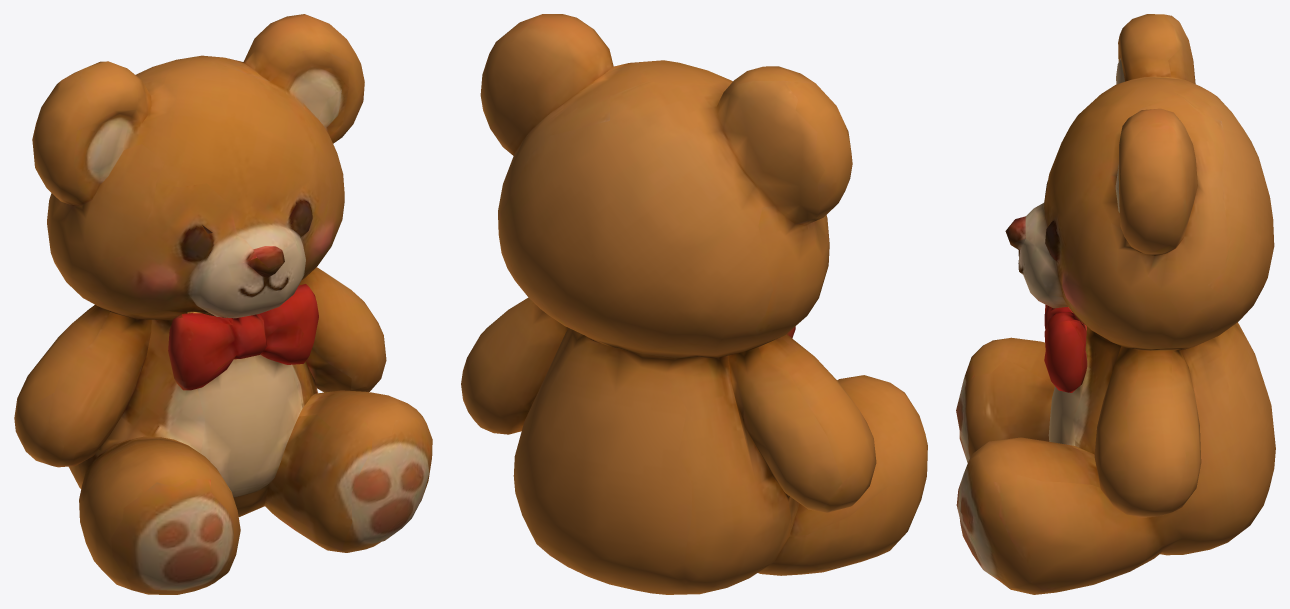
The model's file is big_bear.glb.
3 views of the same model, side by side, from view 1: azimuth 30°, elevation 25°; view 2: azimuth 150°, elevation 25°; view 3: azimuth 270°, elevation 25° (orthographic). The views are drawn at different scales.
Visible parts, largest first — view 1: textured_mesh.obj; view 2: textured_mesh.obj; view 3: textured_mesh.obj.
Part boxes in pixels (<box>): textured_mesh.obj: <box>14,14,432,594</box>; textured_mesh.obj: <box>461,14,927,594</box>; textured_mesh.obj: <box>956,14,1275,594</box>.
Size of what is drawn, in the model's own units: 0.7877 by 1 by 0.6159.
Materials: 1 (1 with a texture image).
